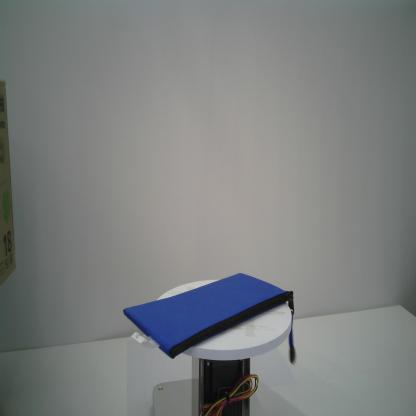Stationery: (121, 270, 297, 368)
